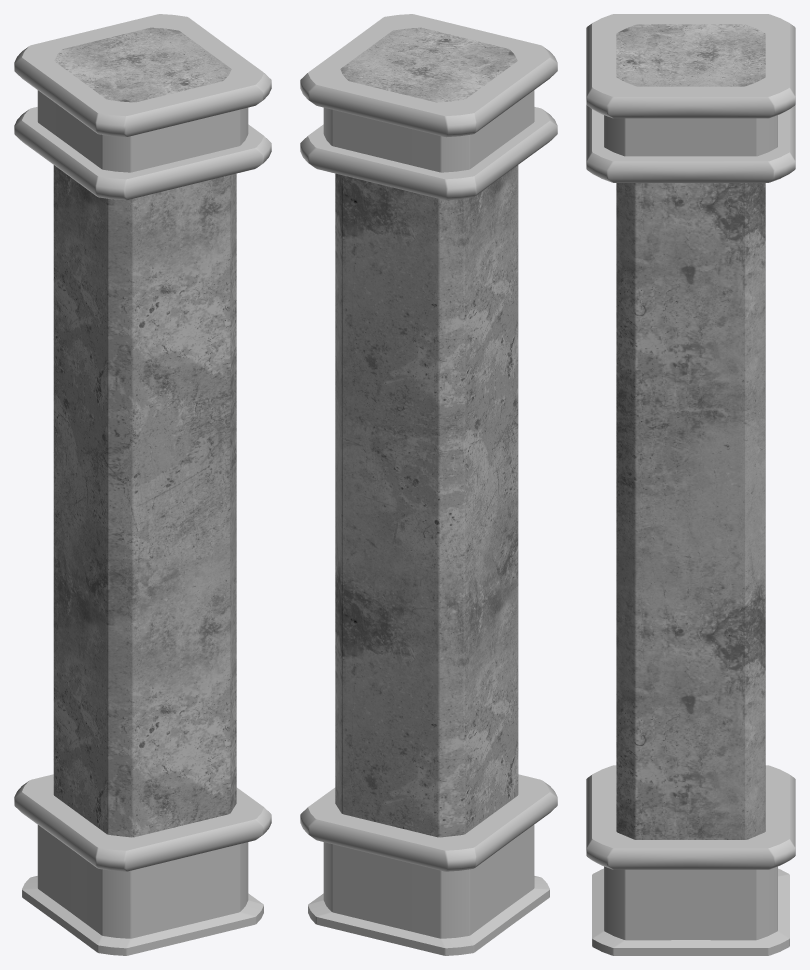
The model's file is SM_Wallkit_Pillar_01a.fbx.
3 views of the same model, side by side, from view 1: azimuth 30°, elevation 25°; view 2: azimuth 150°, elevation 25°; view 3: azimuth 270°, elevation 25° (orthographic). The views are drawn at different scales.
Parts seen in each view (by area): view 1: SM_Wallkit_Pillar_01a_LOD0; view 2: SM_Wallkit_Pillar_01a_LOD0; view 3: SM_Wallkit_Pillar_01a_LOD0.
Part boxes in pixels (<box>): SM_Wallkit_Pillar_01a_LOD0: <box>14,14,271,955</box>; SM_Wallkit_Pillar_01a_LOD0: <box>300,14,557,955</box>; SM_Wallkit_Pillar_01a_LOD0: <box>586,14,795,955</box>.
Size of the model in its own units: 175 by 177 by 800.
